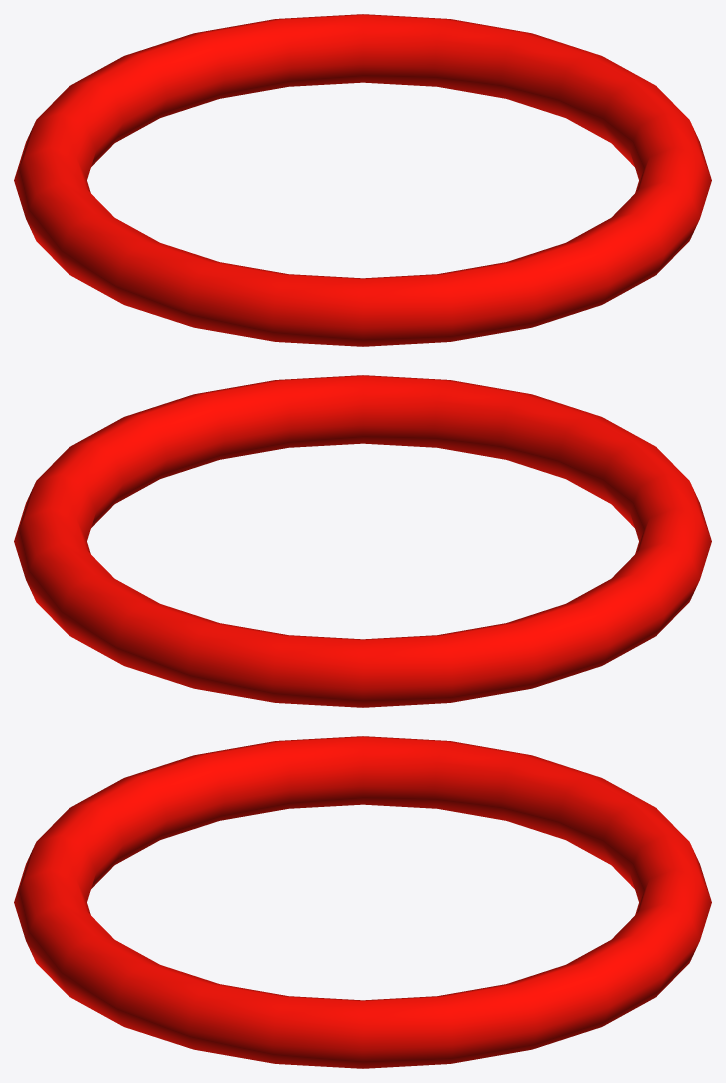
The model's file is redtorus.fbx.
3 renders of one model, top to bottom at view 1: azimuth 30°, elevation 25°; view 2: azimuth 150°, elevation 25°; view 3: azimuth 270°, elevation 25°, orthographic.
Parts seen in each view (by area): view 1: torus; view 2: torus; view 3: torus.
Boxes of the visible parts, x1,y1,x2,y2 form: torus: (14,14,711,346); torus: (14,375,711,707); torus: (14,736,711,1068).
Bounding box in the file's own units: 6.7 × 0.7 × 6.7.
Materials: 1 (1 with a texture image).
